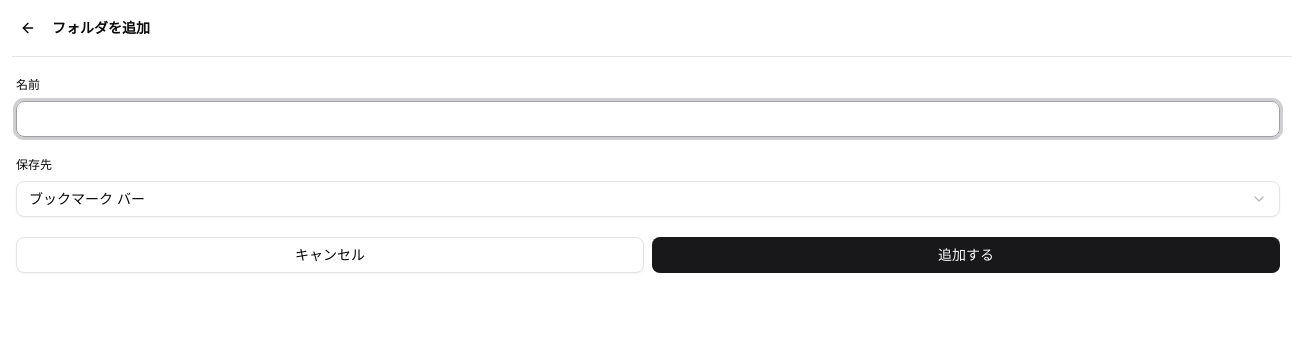
Test case: shadcnのブックマーク編集画面 › 保存先の選択中にEscapeを押しても、編集画面は閉じない
Later steps or results of the test are not shown.
Click the dropdown named "保存先": (87,198) [16, 181, 1280, 217]
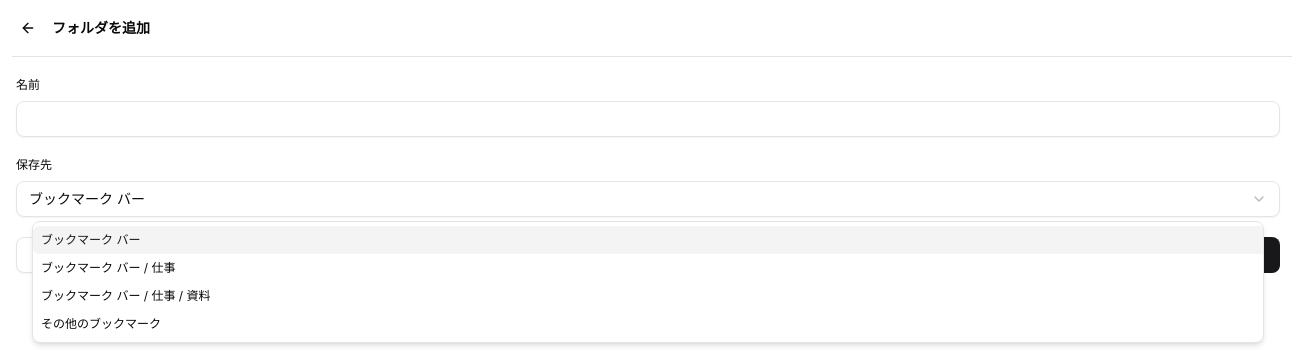
Press Escape
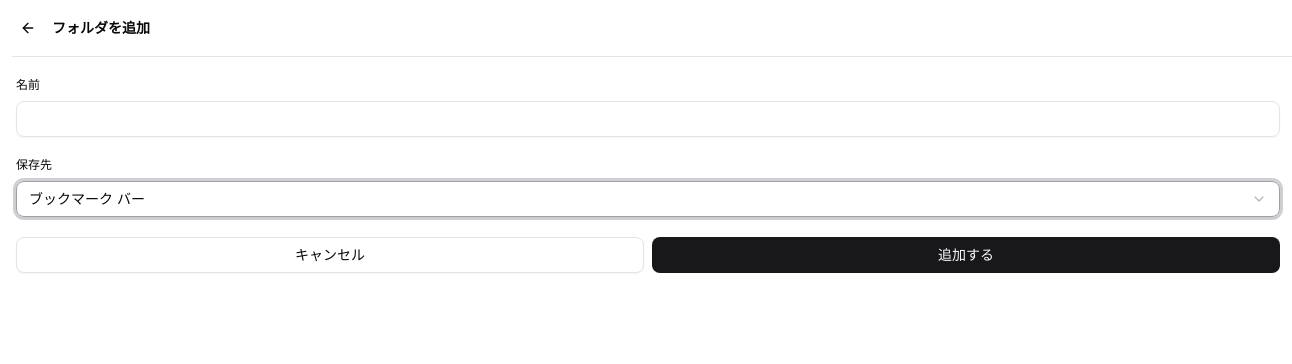
Now the list is gone
